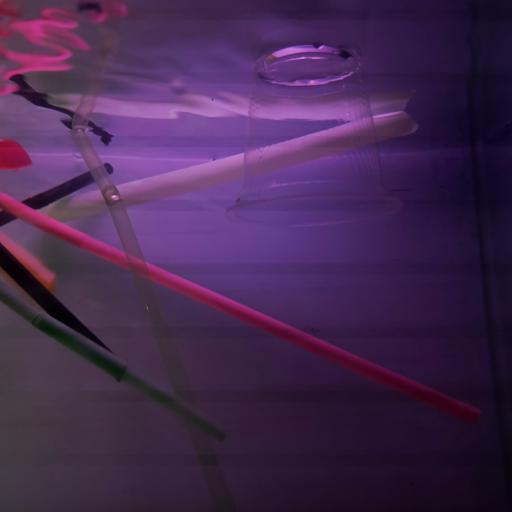plastic_cup: (222, 40, 404, 232)
plastic_straw: (0, 191, 481, 423), (69, 125, 236, 512), (34, 108, 420, 224), (0, 276, 230, 444), (0, 242, 127, 383), (0, 162, 114, 227), (0, 229, 57, 295), (1, 138, 33, 174)
